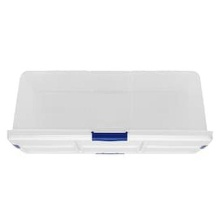plastic_box: (1, 64, 216, 161)
